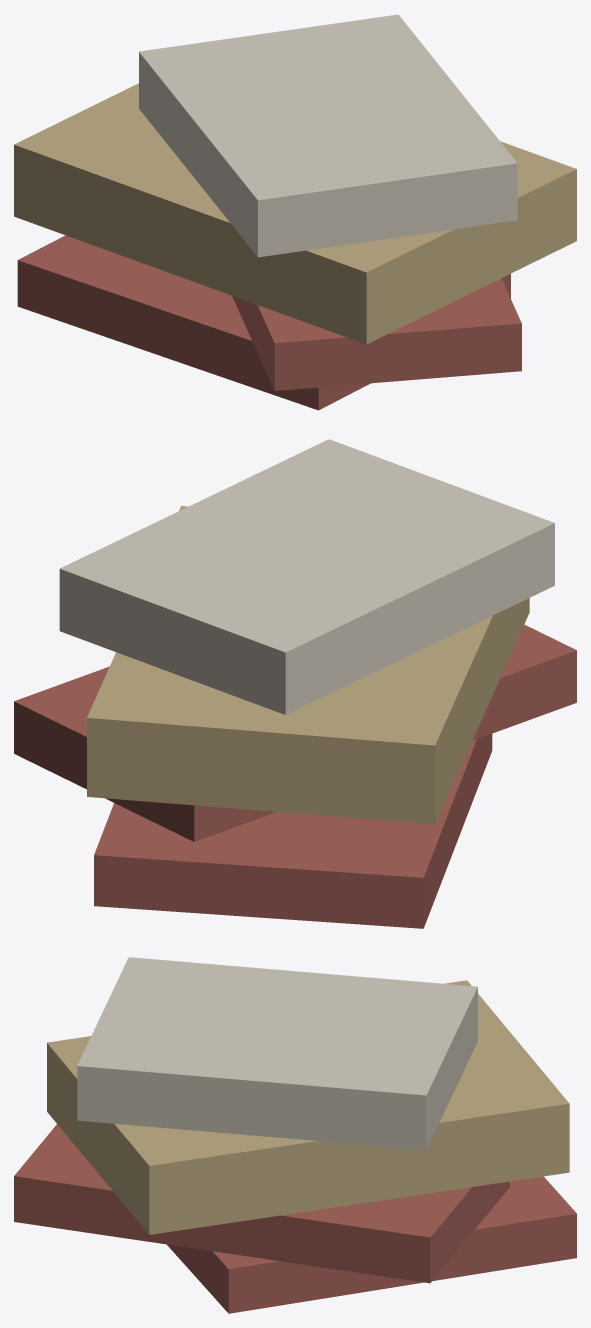
The model's file is mov_f1b409775a.gltf.
3 views of the same model, one above another, from view 1: azimuth 30°, elevation 25°; view 2: azimuth 150°, elevation 25°; view 3: azimuth 270°, elevation 25° (orthographic). The views are drawn at different scales.
Visible parts, largest first — view 1: mov_f1b409775a; view 2: mov_f1b409775a; view 3: mov_f1b409775a.
Part boxes in pixels (x1,y1,x2,y2): mov_f1b409775a: (14,14,576,410); mov_f1b409775a: (14,439,576,928); mov_f1b409775a: (14,957,576,1313).
Bounding box in the file's own units: 0.2896 × 0.1534 × 0.3658.
